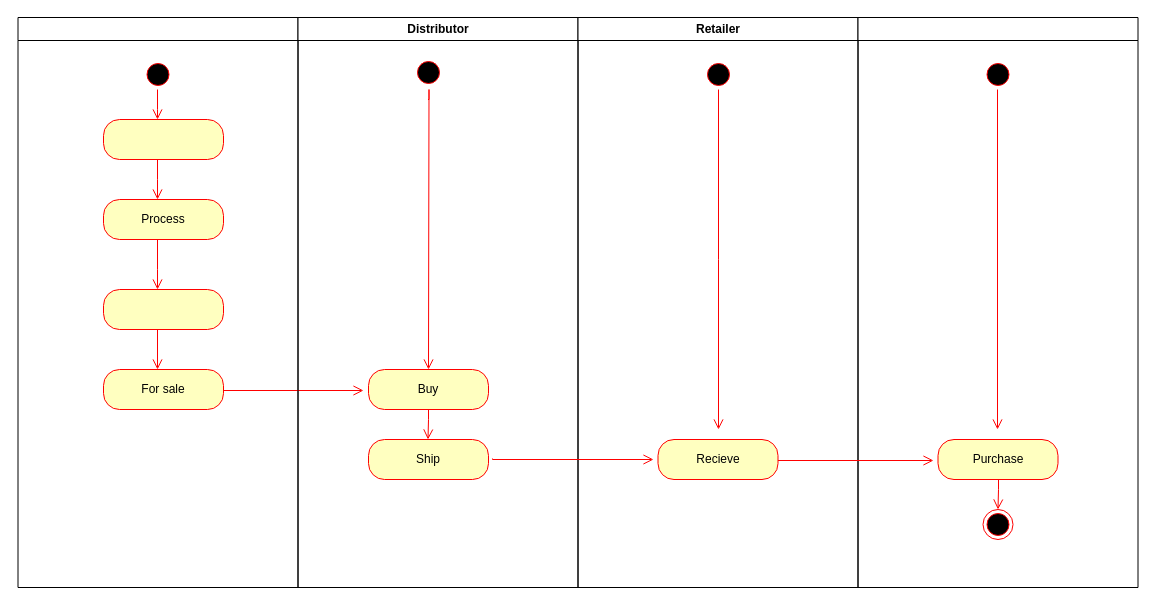
This 1155x605 diagram has some shape labels left out. The box of each missing label's shape, as (x1, y1, x2, y2) in pixels:
Consumer: (857, 16, 1138, 588)
Farmer: (17, 16, 298, 588)
Harvest: (102, 118, 224, 160)
Pack: (102, 288, 224, 330)
